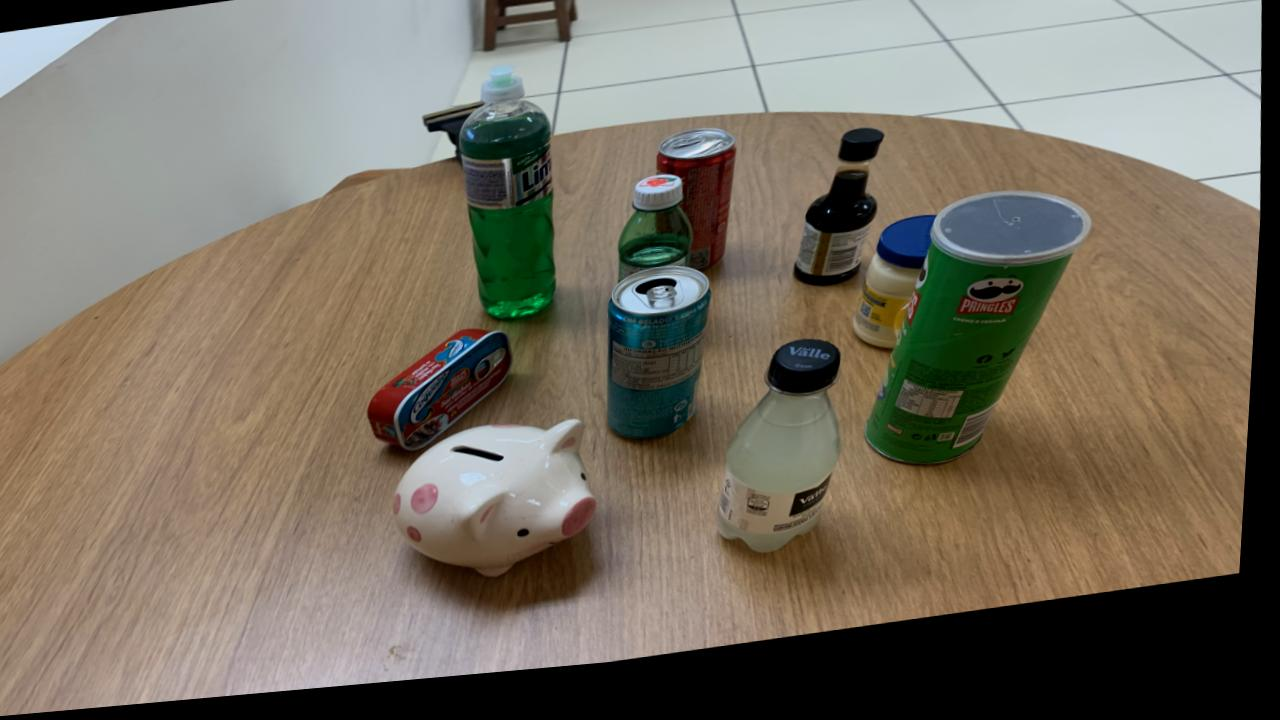Coke-Drinks: (660, 141, 738, 283)
Detergent-Cleanup_Items: (459, 75, 558, 329)
English_Sauce-Pantry_Items: (798, 143, 885, 302)
Guarana-Drinks: (620, 186, 696, 293)
Mayonnaise-Pantry_Items: (856, 232, 938, 366)
Pig_Safe-Miscellaneous: (399, 430, 602, 587)
Pringles-Snacks: (872, 211, 1094, 482)
Soda-Drinks: (725, 355, 847, 568)
Tea-Drinks: (613, 278, 716, 452)
Tuna_Can-Pantry_Items: (373, 339, 516, 460)
